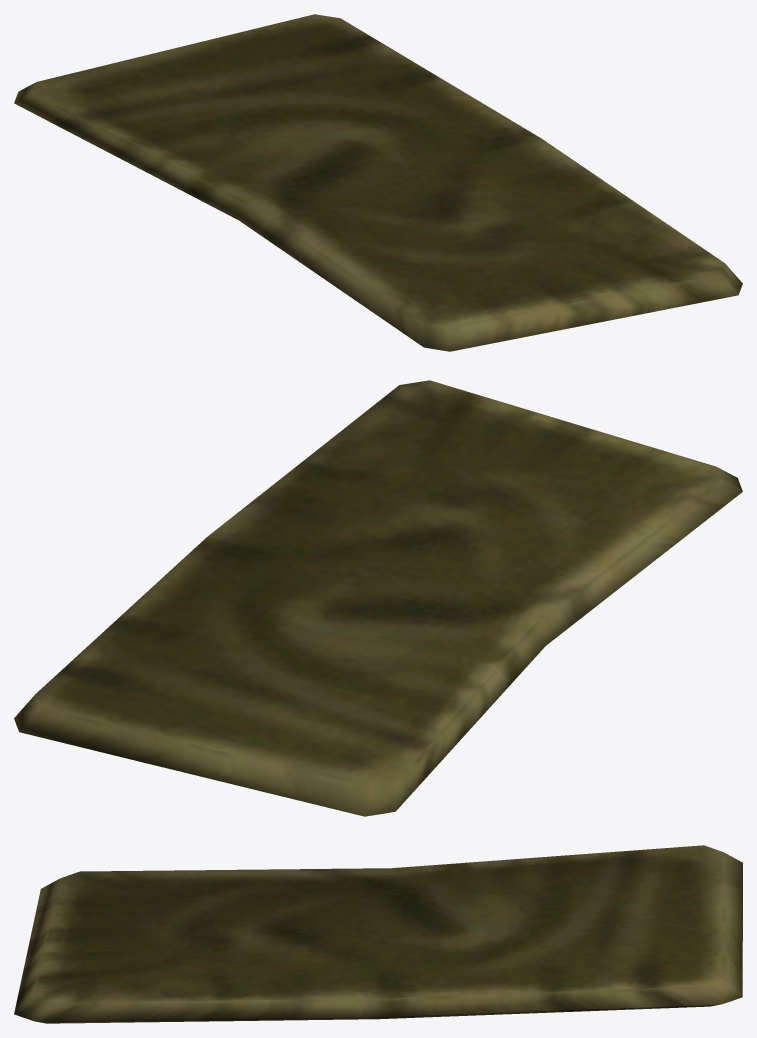
Rendered from INST_MIRK_BEDROLL_3.fbx.
3 renders of one model, top to bottom at view 1: azimuth 30°, elevation 25°; view 2: azimuth 150°, elevation 25°; view 3: azimuth 270°, elevation 25°, orthographic. The views are drawn at different scales.
Parts seen in each view (by area): view 1: INST_MIRK_BEDROLL_3; view 2: INST_MIRK_BEDROLL_3; view 3: INST_MIRK_BEDROLL_3.
Boxes of the visible parts, x1=… form: INST_MIRK_BEDROLL_3: x1=14, y1=14, x2=742, y2=351; INST_MIRK_BEDROLL_3: x1=14, y1=380, x2=742, y2=816; INST_MIRK_BEDROLL_3: x1=14, y1=845, x2=742, y2=1023.
Size of the model in its own units: 12834 by 878 by 23874.
Materials: 1 (1 with a texture image).
